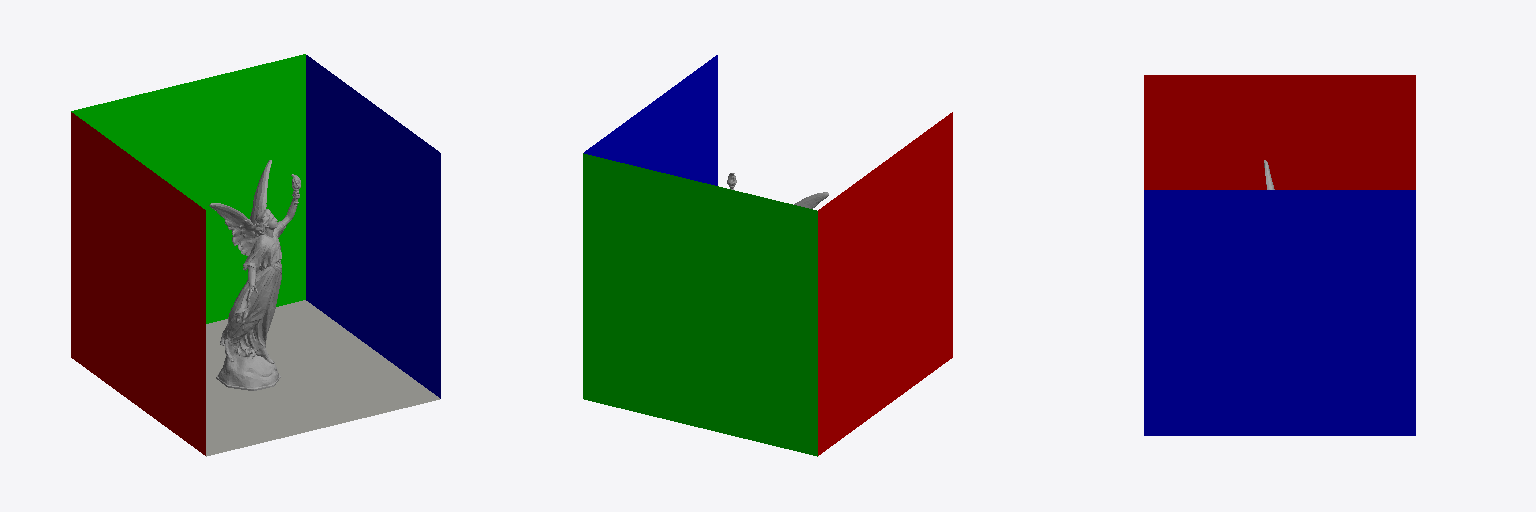
File: CornellBox-Lucy.obj
3 renders of one model, left to right at view 1: azimuth 30°, elevation 25°; view 2: azimuth 150°, elevation 25°; view 3: azimuth 270°, elevation 25°, orthographic.
Parts seen in each view (by area): view 1: Enclosure_Cube.001, Lucy_Winged_Victory; view 2: Enclosure_Cube.001; view 3: Enclosure_Cube.001.
Boxes of the visible parts, x1=… form: Enclosure_Cube.001: x1=71, y1=54, x2=440, y2=456; Lucy_Winged_Victory: x1=209, y1=160, x2=300, y2=390; Enclosure_Cube.001: x1=583, y1=55, x2=952, y2=456; Enclosure_Cube.001: x1=1144, y1=75, x2=1415, y2=435.
Size of the model in its own units: 2 by 2.01 by 2.